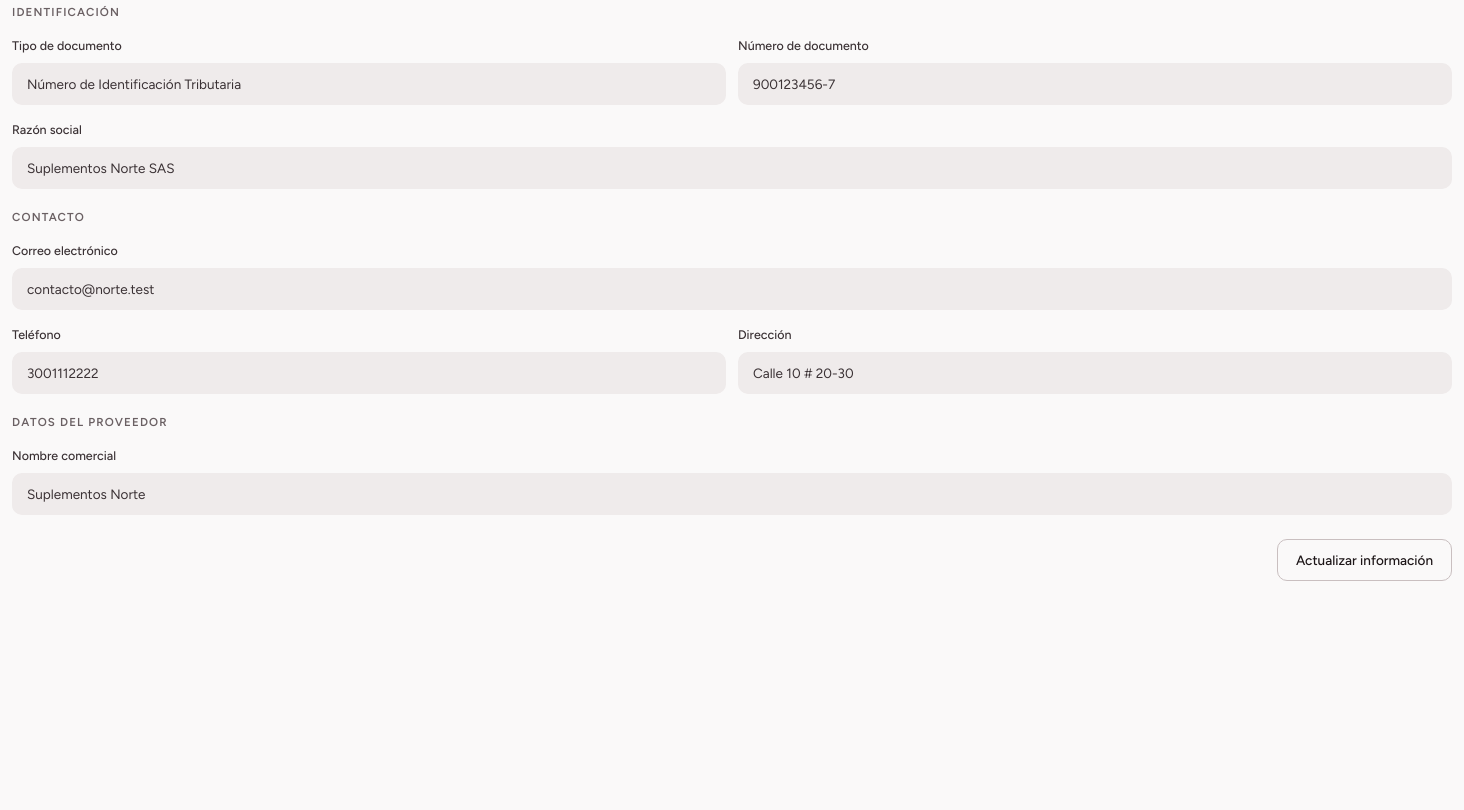
Test: SupplierDataForm saving › sends only the changed person fields inside person
Click the button "Actualizar información". click: point(1364, 560)
box: [1277,539,1452,581]
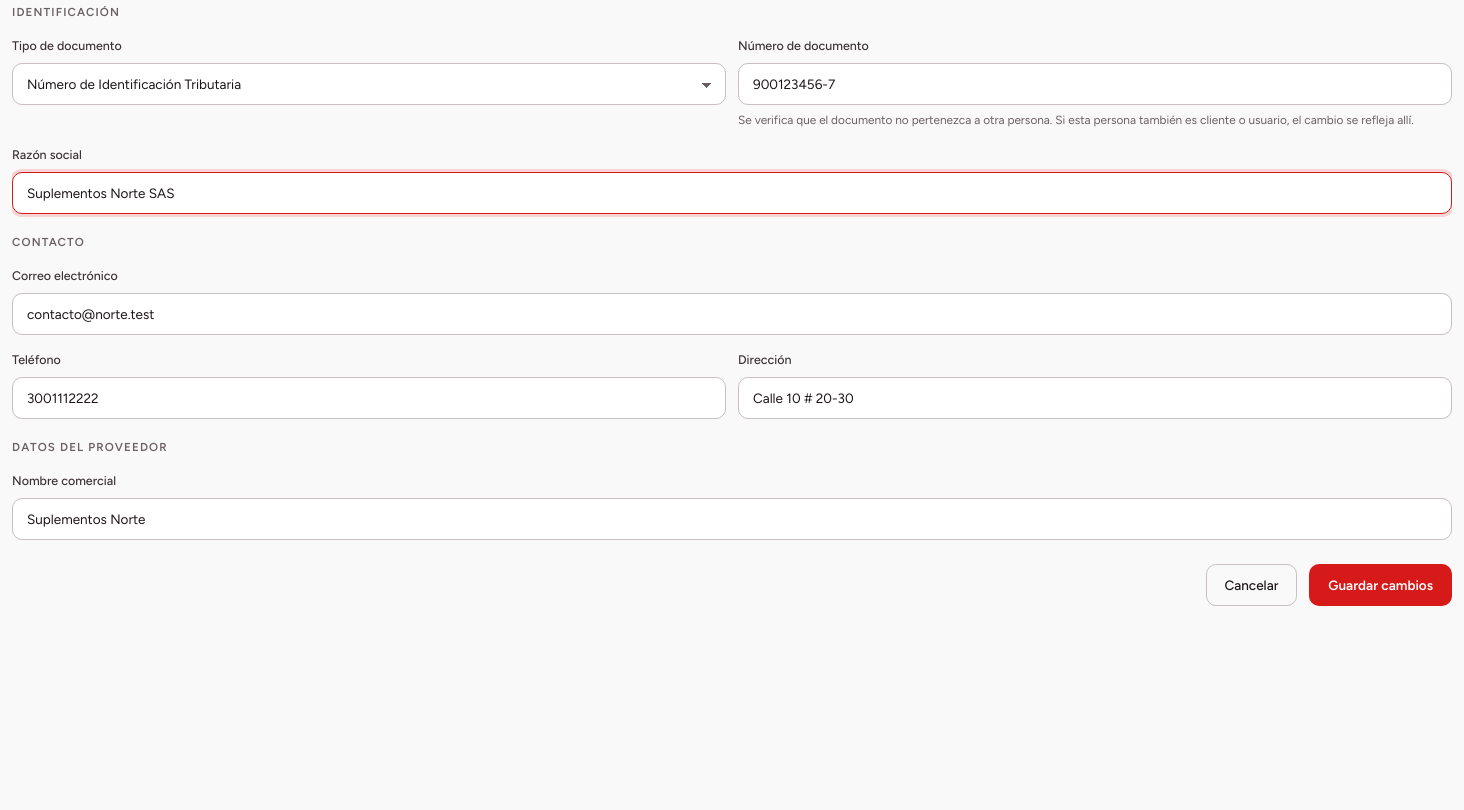
Expected: the dropdown labelled "Tipo de documento" shows "Número de Identificación Tributaria", [12,63,726,105]
Replace the text in the field labelled "Teléfono" with "3009998888". click: point(369, 398)
box: [12,377,726,419]
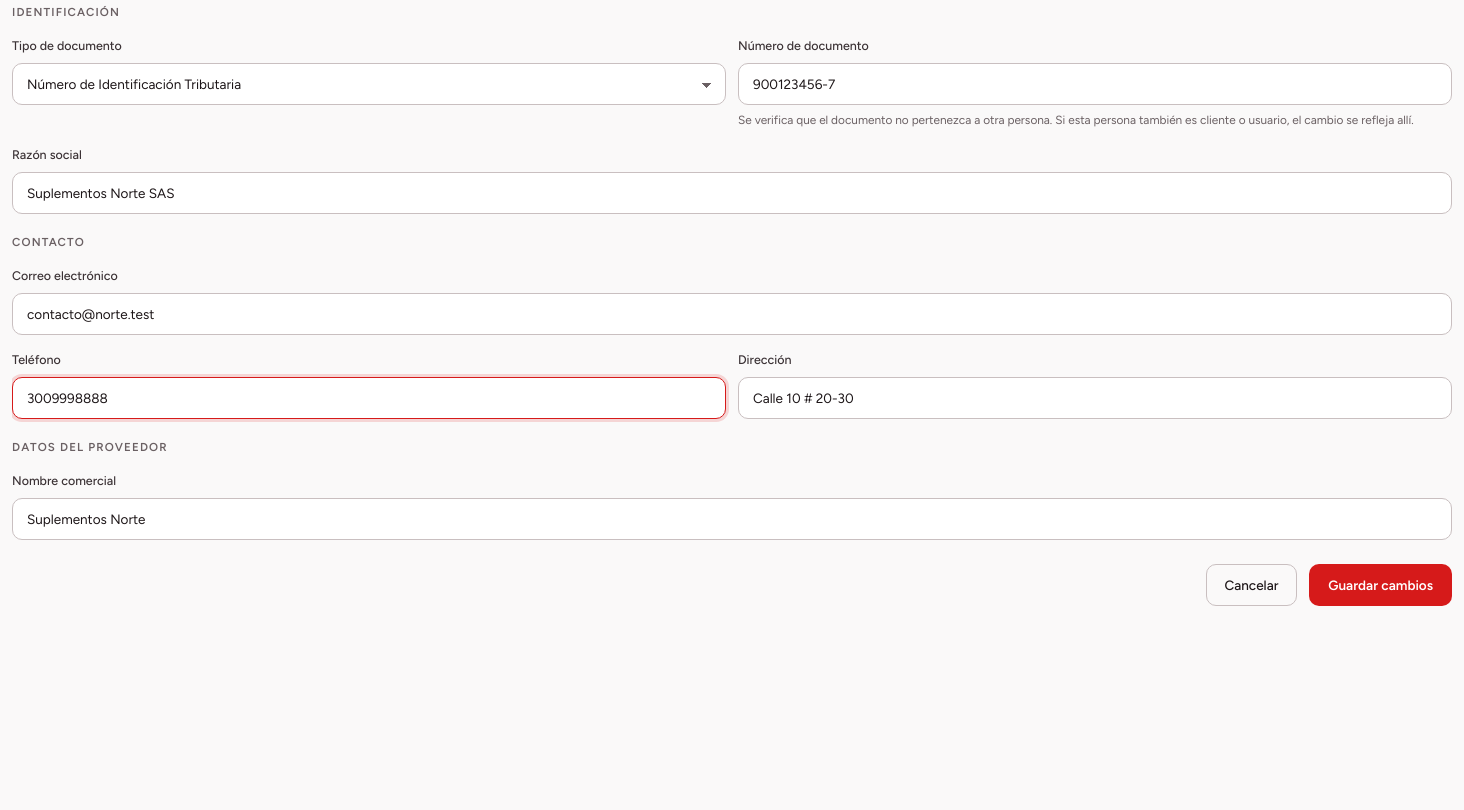
Replace the text in the field labelled "Correo electrónico" with " Ventas@Norte.test ". click: point(732, 314)
box: [12,293,1452,335]
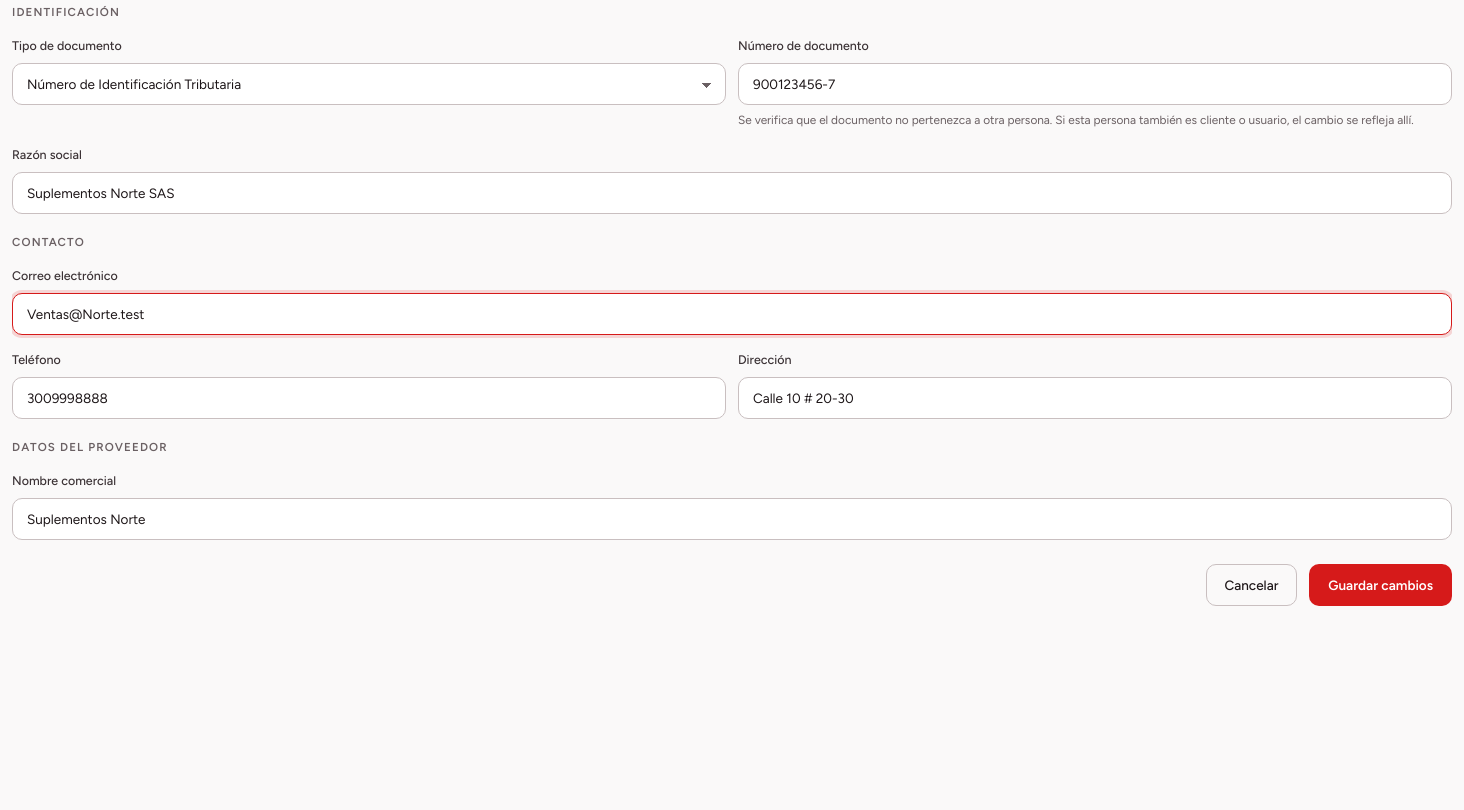
Click the button "Guardar cambios". click: point(1381, 585)
box: [1309,564,1452,606]
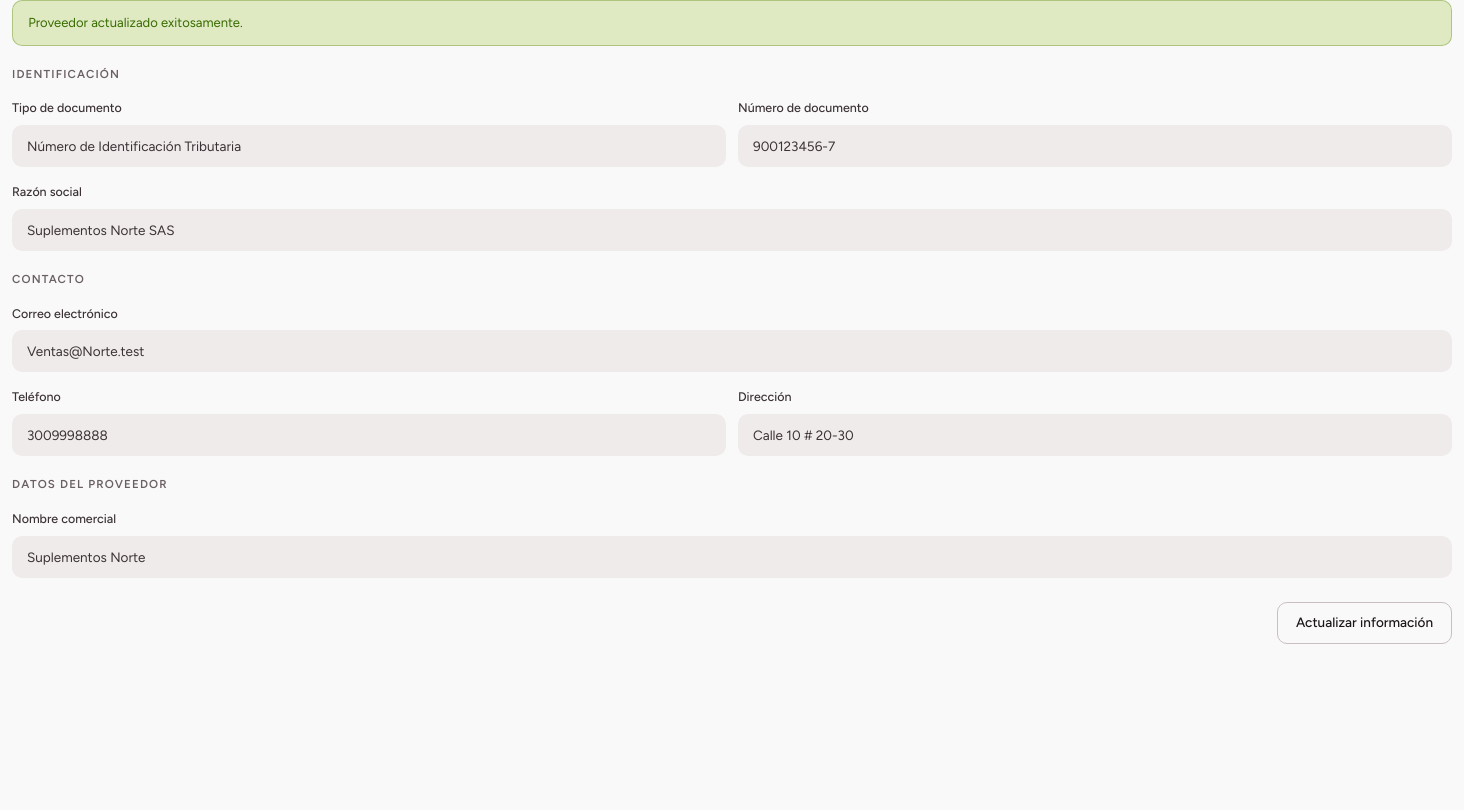
Expected: the message reads "Proveedor actualizado exitosamente.", [28,15,243,30]
Expected: the button "Actualizar información" is shown, [1277,602,1452,644]
